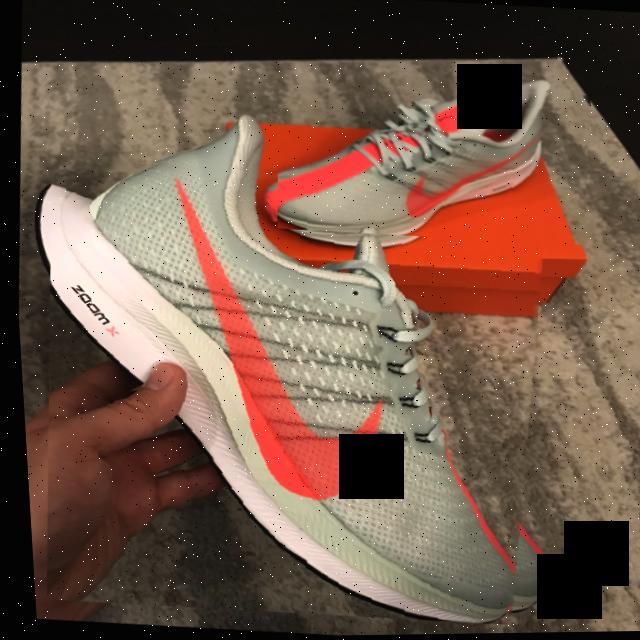shoe: (18, 148, 566, 634), (267, 70, 596, 251)
